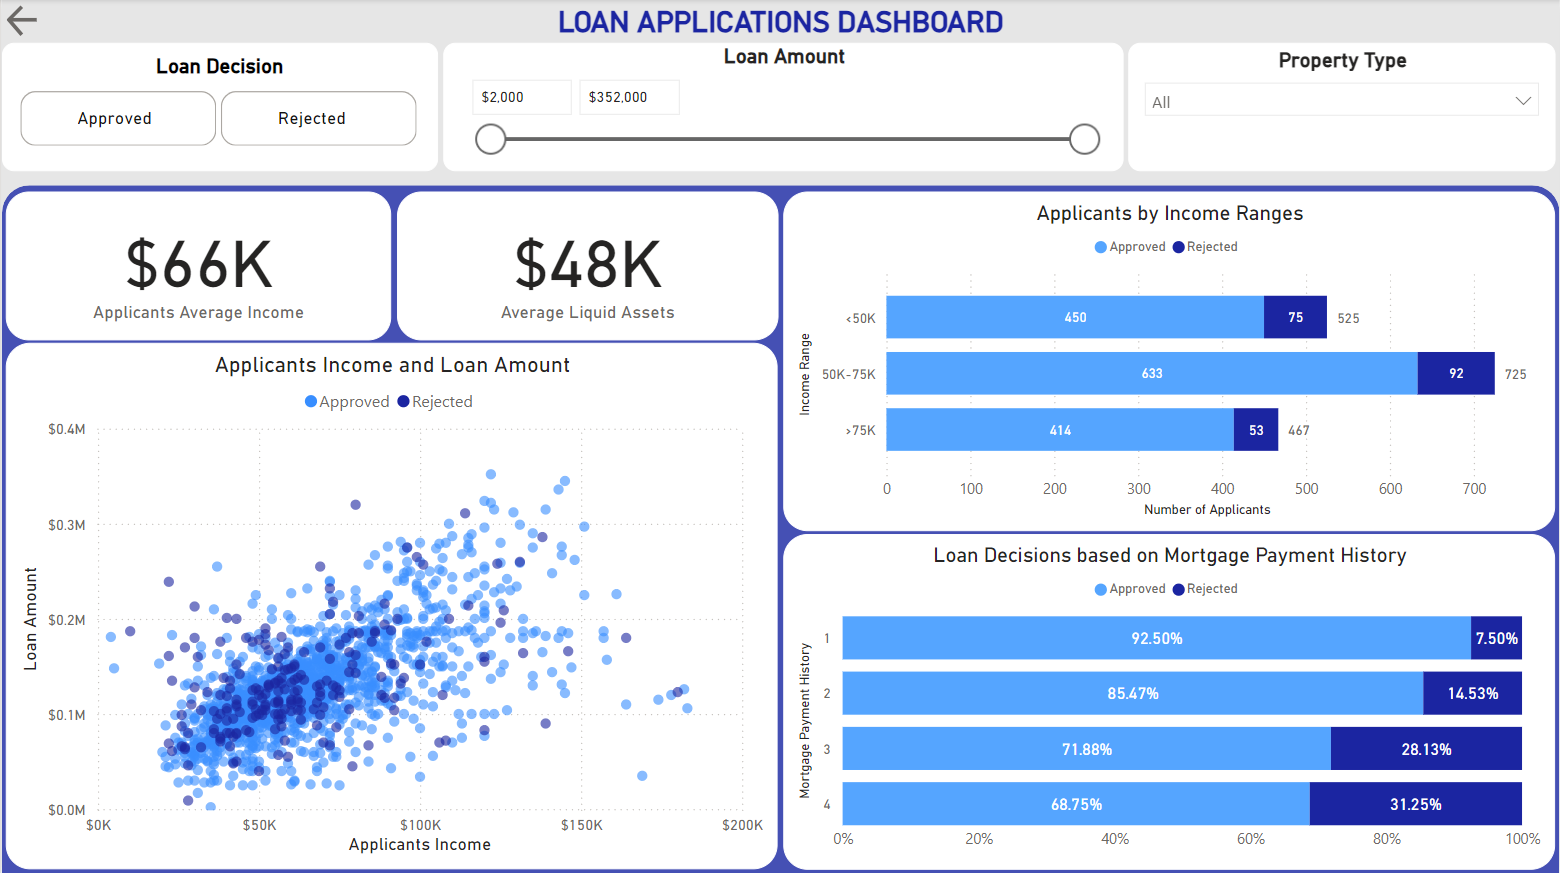

What the dashboard file says about the page in this screenshot:
{"tool":"powerbi","page":{"name":"Page 2","canvas":[1280,720],"ordinal":1},"visuals":[{"type":"shape","box":[0,153.5,1280.2,566.3],"z":0},{"type":"textbox","box":[0,36,358.1,105.8],"z":1000},{"type":"slicer","title":"Loan Amount","fields":{"Values":["loan_applications_BI.loan_amount_thousand"]},"box":[362.8,36,559.3,105.8],"z":2000},{"type":"slicer","title":"Property Type","fields":{"Values":["loan_applications_BI.property_type"]},"box":[925.6,36,351.2,105.8],"z":3000},{"type":"textbox","box":[0,0,1280.2,46.5],"z":4000},{"type":"advancedSlicerVisual","title":"Loan Decision:","fields":{"Values":["loan_applications_BI.decision_label"]},"box":[3.5,64,350,69.8],"z":5000},{"type":"barChart","title":"Applicants by Income Ranges","fields":{"Y":["CountNonNull(loan_applications_BI.applicant_income_range)"],"Series":["loan_applications_BI.decision_label"],"Category":["income_range_order.income_range"]},"box":[642.5,158,634.2,279.4],"z":6000},{"type":"card","fields":{"Values":["Avg(loan_applications_BI.applicant_income_thousand)"]},"box":[3.5,158,317.1,122.6],"z":7000},{"type":"card","fields":{"Values":["Avg(loan_applications_BI.liquid_assets_thousand)"]},"box":[324.2,158,313.6,122.6],"z":8000},{"type":"scatterChart","title":"Applicants Income and Loan Amount","fields":{"Y":["loan_applications_BI.loan_amount_thousand"],"X":["loan_applications_BI.applicant_income_thousand"],"Series":["loan_applications_BI.decision_label"]},"box":[3.5,282.9,634.2,432.6],"z":9000},{"type":"hundredPercentStackedBarChart","title":"Loan Decisions based on Mortgage Payment History","fields":{"Series":["loan_applications_BI.decision_label"],"Y":["CountNonNull(loan_applications_BI.decision_label)"],"Category":["loan_applications_BI.mortage_payment_history"]},"box":[642.5,439.7,634.2,275.9],"z":10000},{"type":"actionButton","box":[0,0,34.2,36.5],"z":10501}]}

Visuals, with their boxes in screenshot pixels (x1, y1, x2, y2), scaled from the page's 1280x720 canvas onto the 1560x873 screenshot:
shape: bbox=(0, 186, 1559, 872)
textbox: bbox=(0, 44, 436, 172)
"Loan Amount" slicer: bbox=(442, 44, 1124, 172)
"Property Type" slicer: bbox=(1128, 44, 1556, 172)
textbox: bbox=(0, 0, 1559, 56)
"Loan Decision:" advancedSlicerVisual: bbox=(4, 78, 431, 162)
"Applicants by Income Ranges" barChart: bbox=(783, 192, 1556, 530)
card - Avg(loan_applications_BI.applicant_income_thousand): bbox=(4, 192, 391, 340)
card - Avg(loan_applications_BI.liquid_assets_thousand): bbox=(395, 192, 777, 340)
"Applicants Income and Loan Amount" scatterChart: bbox=(4, 343, 777, 868)
"Loan Decisions based on Mortgage Payment History" hundredPercentStackedBarChart: bbox=(783, 533, 1556, 868)
actionButton: bbox=(0, 0, 42, 44)
